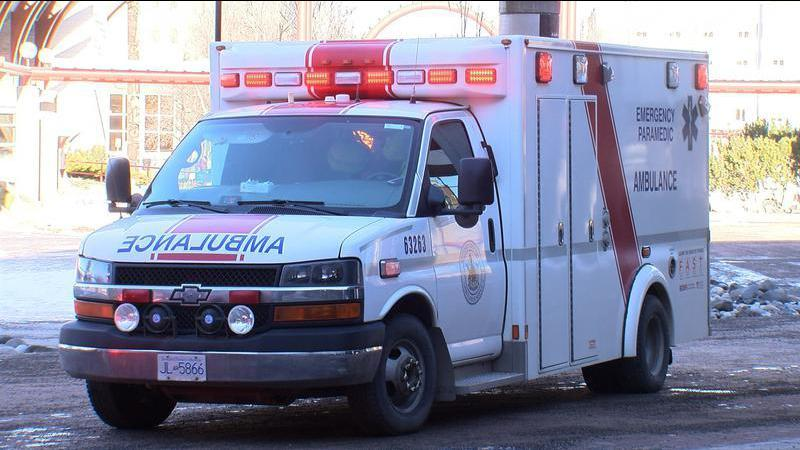ambulance_on: (43, 29, 741, 434)
